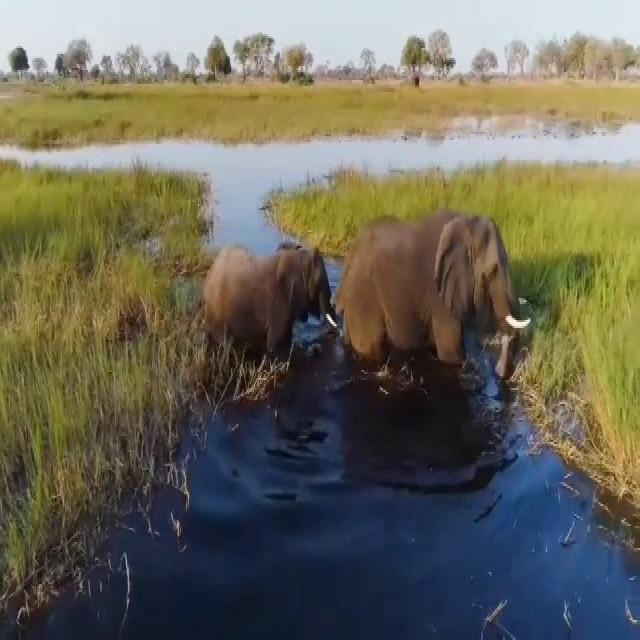Elephant: (341, 202, 535, 385), (185, 227, 338, 382)
